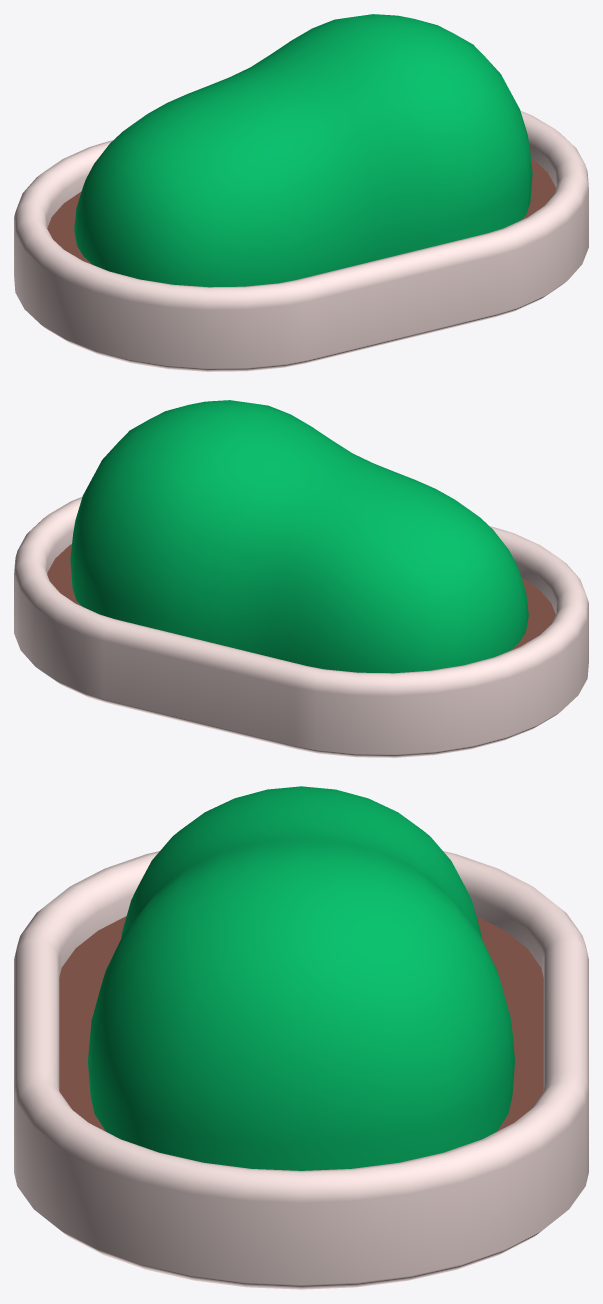
Rendered from City_11_Bush_3.glb.
The picture shows the model from 3 angles, top to bottom: view 1: azimuth 30°, elevation 25°; view 2: azimuth 150°, elevation 25°; view 3: azimuth 270°, elevation 25°; orthographic projection. The views are drawn at different scales.
Parts seen in each view (by area): view 1: City_11_Bush_3; view 2: City_11_Bush_3; view 3: City_11_Bush_3.
Part boxes in pixels (x1=…): City_11_Bush_3: x1=14, y1=14, x2=588, y2=371; City_11_Bush_3: x1=14, y1=400, x2=588, y2=757; City_11_Bush_3: x1=14, y1=786, x2=588, y2=1289.
Bounding box in the file's own units: 1.55 × 0.6223 × 1.06.
Materials: 1 (1 with a texture image).
